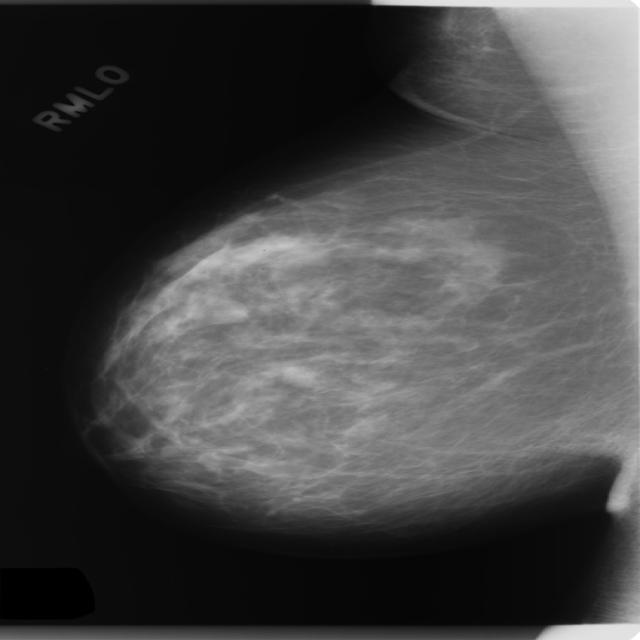tumour: (186, 294, 248, 324)
